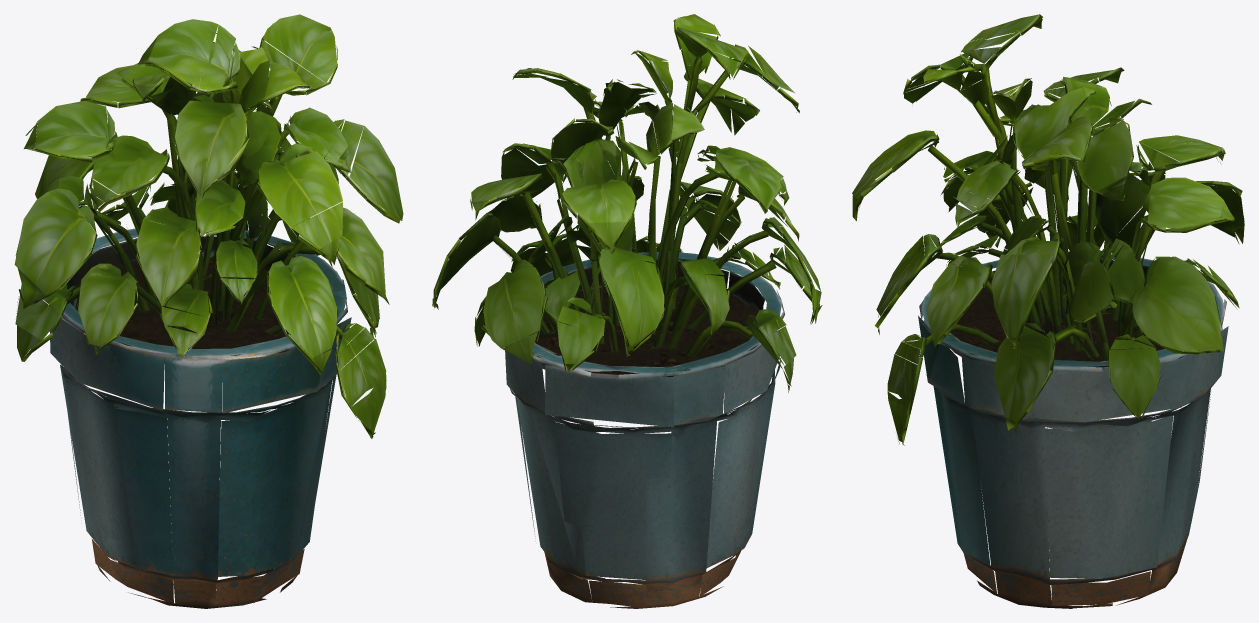
3 views of the same model, side by side, from view 1: azimuth 30°, elevation 25°; view 2: azimuth 150°, elevation 25°; view 3: azimuth 270°, elevation 25° (orthographic). The views are drawn at different scales.
Visible parts, largest first — view 1: c03_Potted_plant; view 2: c03_Potted_plant; view 3: c03_Potted_plant.
Part boxes in pixels (bbox=[...]): c03_Potted_plant: bbox=[14, 14, 403, 608]; c03_Potted_plant: bbox=[432, 14, 822, 608]; c03_Potted_plant: bbox=[852, 14, 1244, 608].
Size of the model in its own units: 0.4555 by 0.682 by 0.4503.
1 material, 1 textured.
